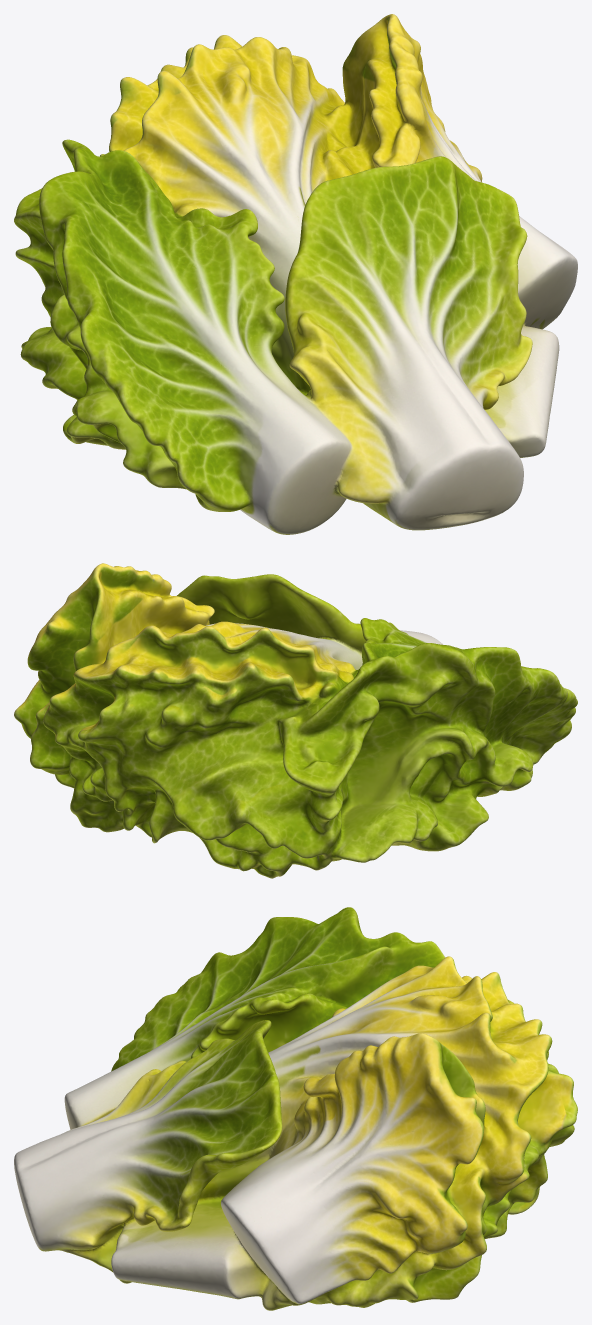
Rendered from albaegi_cabbage.fbx.
The picture shows the model from 3 angles, top to bottom: view 1: azimuth 30°, elevation 25°; view 2: azimuth 150°, elevation 25°; view 3: azimuth 270°, elevation 25°; orthographic projection. The views are drawn at different scales.
Visible parts, largest first — view 1: Mesh_0; view 2: Mesh_0; view 3: Mesh_0.
Part boxes in pixels (x1,y1,x2,y2): Mesh_0: [14, 14, 577, 534]; Mesh_0: [14, 563, 577, 878]; Mesh_0: [14, 907, 577, 1310].
Bounding box in the file's own units: 178 × 104 × 190.
Materials: 1 (1 with a texture image).
